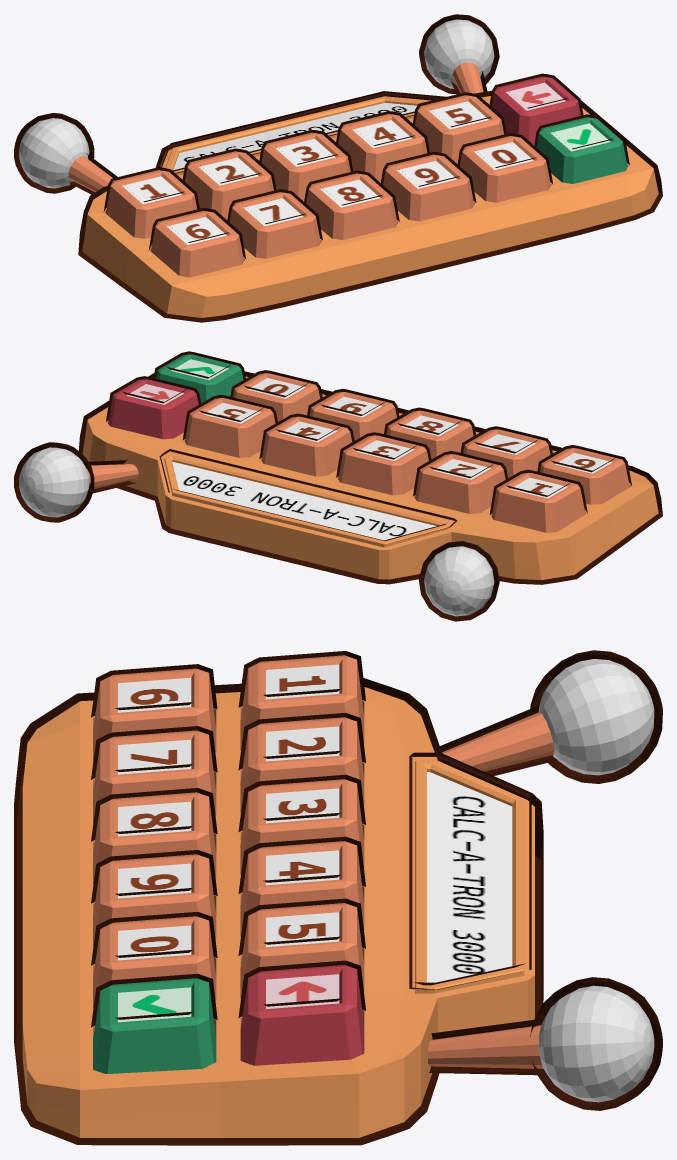
File: keyboardv3b.glb
The picture shows the model from 3 angles, top to bottom: view 1: azimuth 30°, elevation 25°; view 2: azimuth 150°, elevation 25°; view 3: azimuth 270°, elevation 25°; orthographic projection. The views are drawn at different scales.
Visible parts, largest first — view 1: base, light, base.001, btn7, btn12, btn10, btn8, btn9, btn11, btn1, btn6, btn3 (+17 smaller); view 2: base, light, base.001, btn1, btn6, btn5, btn4, btn3, btn2, btn7, light.001, btn8 (+17 smaller); view 3: base, light, base.001, btn6, btn12, stalk, btn4, btn3, btn5, btn1, btn8, btn7 (+18 smaller).
Part boxes in pixels (x1,y1,x2,y2): base: (82, 96, 658, 317); light: (19, 19, 494, 188); base.001: (78, 90, 662, 322); btn7: (151, 210, 243, 277); btn12: (536, 117, 627, 183); btn10: (383, 154, 474, 221); btn8: (229, 192, 320, 258); btn9: (306, 173, 397, 239); btn11: (460, 136, 550, 202); btn1: (105, 170, 196, 238); btn6: (491, 76, 580, 144); btn3: (261, 132, 350, 200); base: (82, 376, 658, 580); light: (19, 447, 494, 616); base.001: (79, 371, 662, 584); btn1: (491, 473, 585, 532); btn6: (108, 379, 198, 439); btn5: (185, 398, 275, 457); btn4: (261, 416, 352, 476); btn3: (338, 435, 428, 495); btn2: (415, 454, 505, 513); btn7: (540, 448, 629, 504); light.001: (14, 442, 499, 621); btn8: (463, 429, 550, 477); base: (22, 687, 534, 1137); light: (538, 659, 654, 1102); base.001: (14, 678, 543, 1145); btn6: (241, 965, 364, 1065); btn12: (93, 978, 216, 1073); stalk: (427, 712, 554, 1068); btn4: (241, 841, 364, 935); btn3: (241, 779, 364, 873); btn5: (241, 903, 364, 997); btn1: (241, 655, 364, 749); btn8: (93, 730, 216, 822); btn7: (93, 668, 216, 760).
Bounding box in the file's own units: 5.53 × 0.8156 × 3.77.
Materials: 3 (1 with a texture image).
